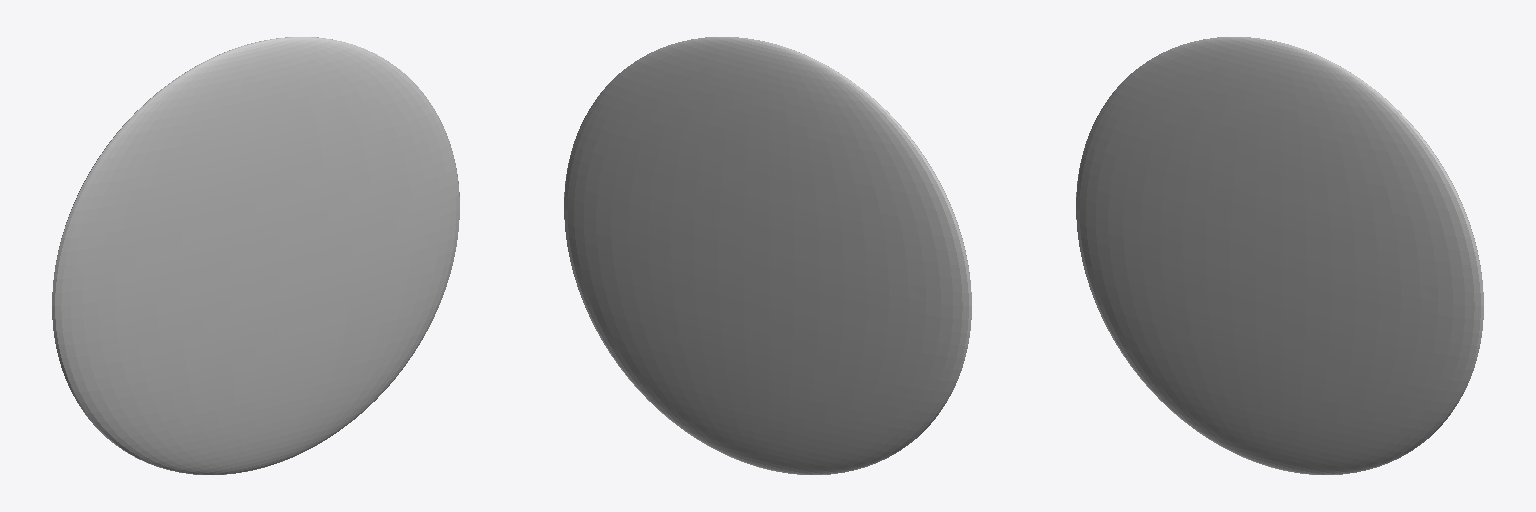
Rendered from shield.obj.
3 views of the same model, side by side, from view 1: azimuth 30°, elevation 25°; view 2: azimuth 150°, elevation 25°; view 3: azimuth 330°, elevation 25° (orthographic).
Parts seen in each view (by area): view 1: Shield; view 2: Shield; view 3: Shield.
Boxes of the visible parts, box(x1,y1,x2,y2) form: Shield: box(52, 37, 459, 474); Shield: box(564, 37, 971, 474); Shield: box(1076, 37, 1483, 474).
Size of the model in its own units: 1.4 by 1.4 by 0.1397.